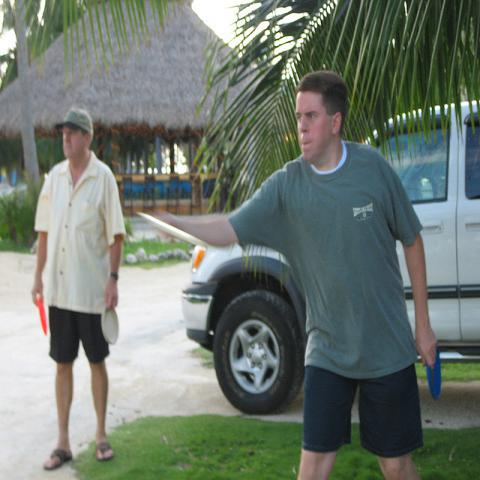truck: (184, 99, 478, 419)
